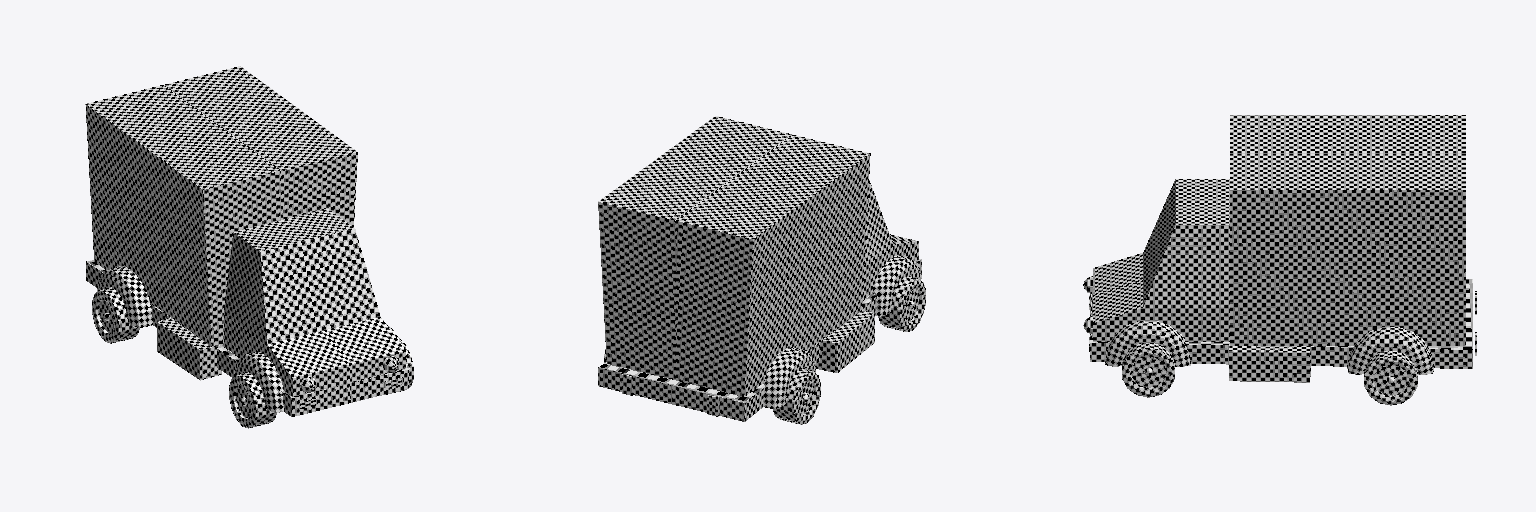
3 views of the same model, side by side, from view 1: azimuth 30°, elevation 25°; view 2: azimuth 150°, elevation 25°; view 3: azimuth 270°, elevation 25° (orthographic).
Visible parts, largest first — view 1: CAMION_; view 2: CAMION_; view 3: CAMION_.
Boxes of the visible parts, x1,y1,x2,y2 form: CAMION_: [85, 66, 413, 428]; CAMION_: [598, 116, 925, 424]; CAMION_: [1083, 115, 1476, 405].
Bounding box in the file's own units: 40.49 × 41.54 × 71.68.
1 materials, 1 textured.